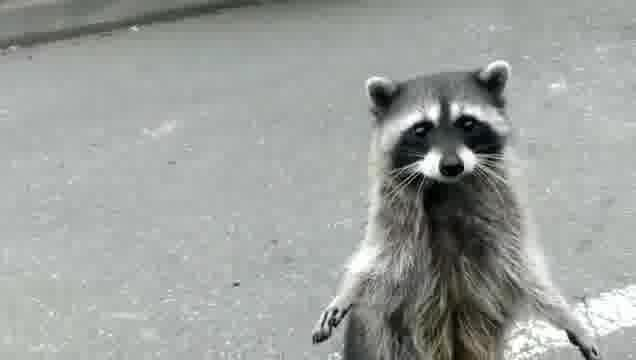raccoon: (311, 60, 598, 360)
